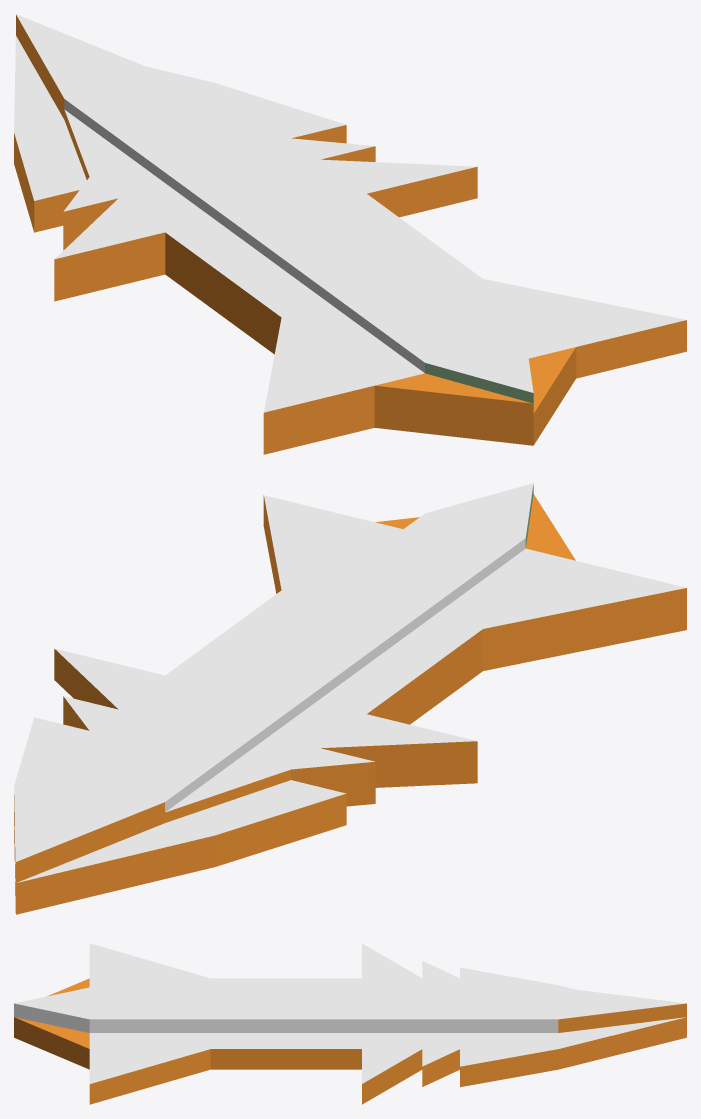
The picture shows the model from 3 angles, top to bottom: view 1: azimuth 30°, elevation 25°; view 2: azimuth 150°, elevation 25°; view 3: azimuth 270°, elevation 25°; orthographic projection. The views are drawn at different scales.
Visible parts, largest first — view 1: root; view 2: root; view 3: root.
Boxes of the visible parts, x1,y1,x2,y2 form: root: (14,14,686,454); root: (14,483,686,914); root: (14,943,686,1104).
Bounding box in the file's own units: 0.42 × 0.05 × 0.89.
